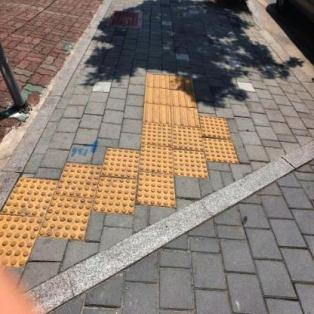Podoctatil: (142, 72, 198, 121)
